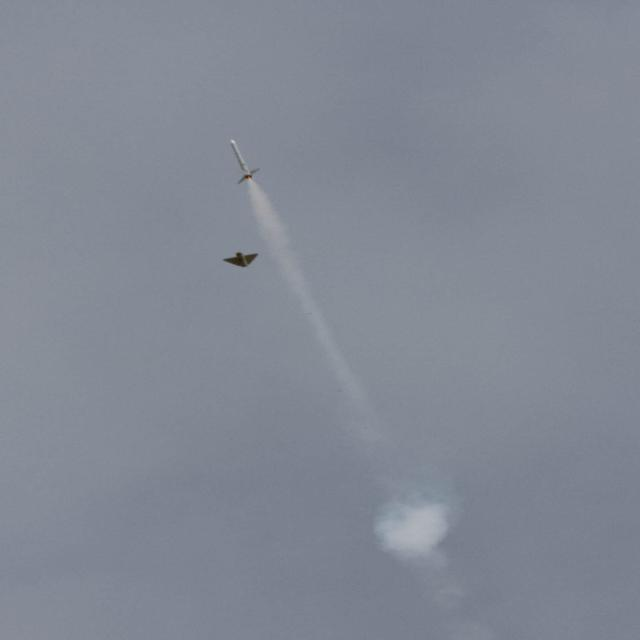Rocket: (229, 139, 262, 185)
